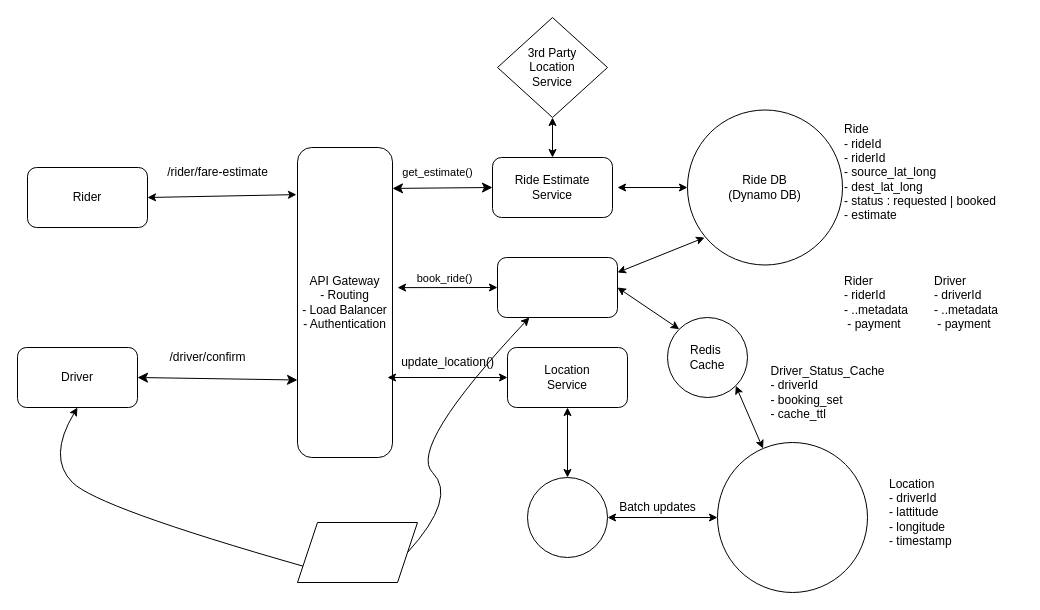
The diagram is 1040 pixels wide and 610 high, and some of its shapes have lost their labels. The shapes that lost their labels are listed below. From the top down, each one's box as (x1, y1, x2, y2) in pixels, then its label:
(496, 256, 618, 318): Ride Matching Service
(526, 476, 608, 558): Redis
(716, 442, 868, 592): Location DB
(296, 522, 418, 582): Notification Service
